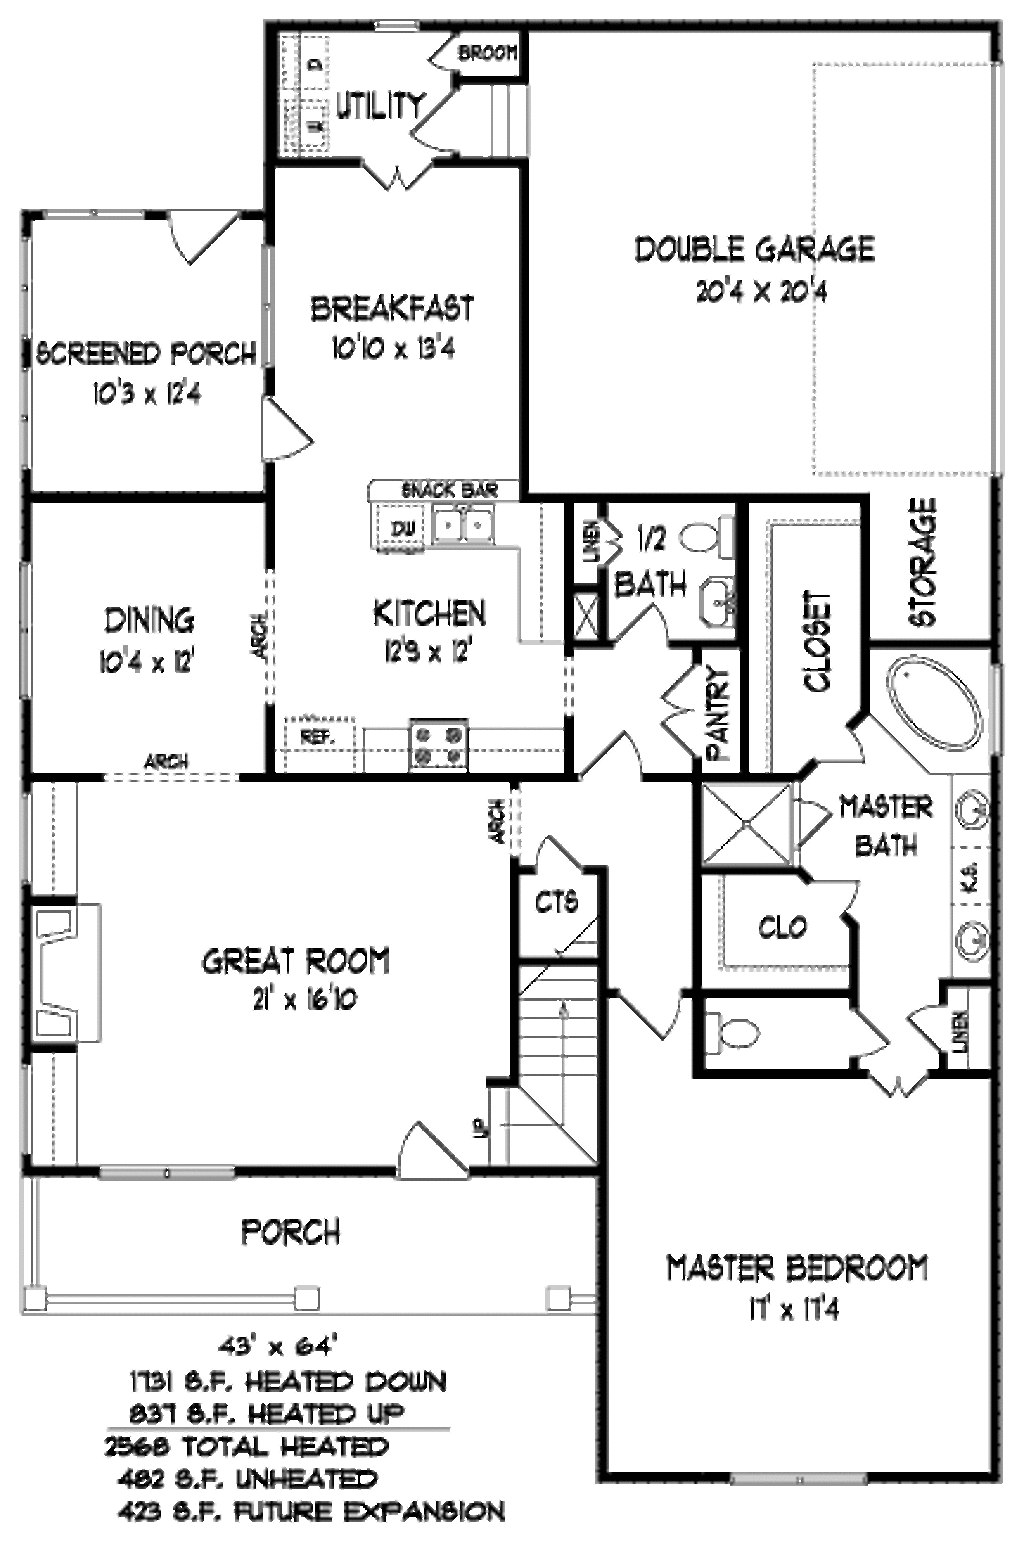door: (379, 1109, 478, 1188), (657, 650, 707, 769), (168, 209, 249, 278), (395, 71, 459, 155), (259, 400, 323, 477), (809, 712, 866, 788), (363, 145, 447, 196), (802, 862, 871, 921), (578, 728, 651, 781), (616, 997, 680, 1057), (609, 605, 683, 655), (869, 1059, 937, 1105), (418, 21, 471, 77), (906, 1005, 947, 1064), (790, 795, 830, 854), (849, 1005, 885, 1072)
large_sink: (947, 782, 995, 981), (661, 512, 749, 559), (695, 1016, 766, 1069)
sink: (699, 576, 735, 643)
stairs: (480, 869, 592, 1166)
tub: (871, 650, 995, 778)
twin_sink: (418, 501, 495, 549)
window: (85, 1162, 235, 1188), (11, 235, 47, 340), (11, 565, 37, 693), (18, 366, 40, 464)
